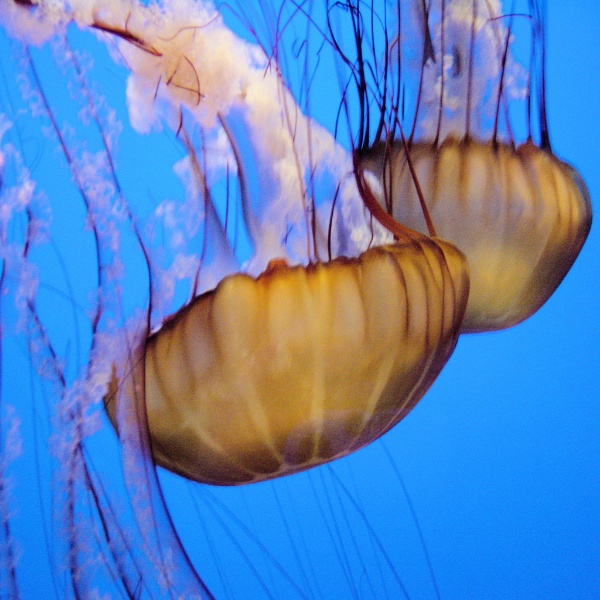Jellyfish: (0, 0, 471, 599), (296, 98, 595, 352)
